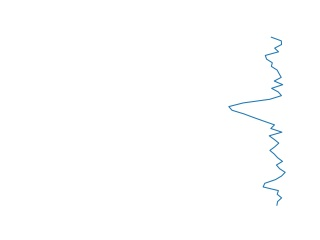interdistributaryEstuary: (224, 36, 294, 204)
